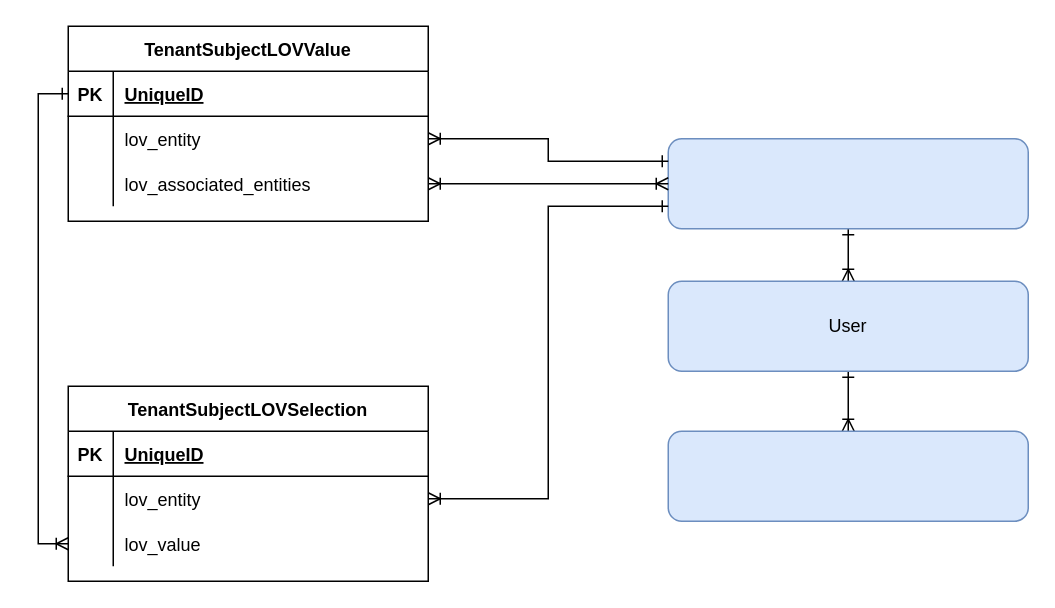
Some shapes in this 1055 by 608 pixel diagram are drawn without their labels. The centre of each missing label's shape, as x and y in pixels:
"Contact" belongs at (x=847, y=475).
"Tenant entities_tenantsubjectlovvalueselections" belongs at (x=847, y=183).
